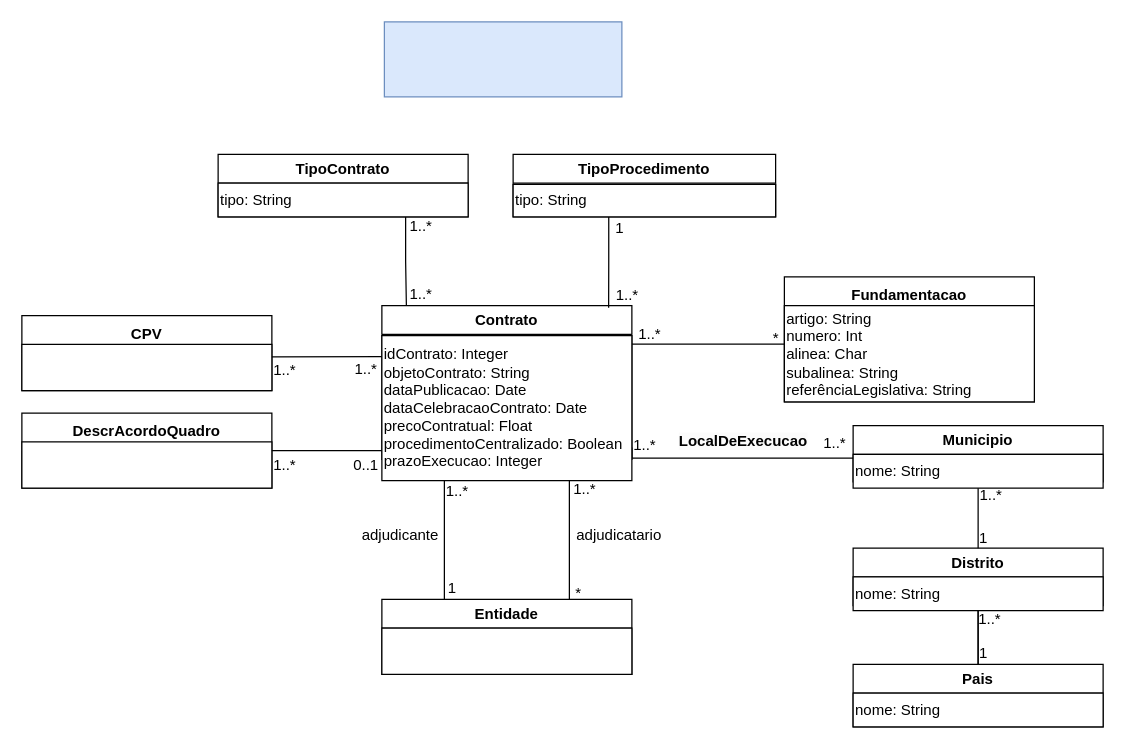
The diagram is 1125 pixels wide and 749 high, and some of its shapes have lost their labels. The shapes that lost their labels are listed below. From the top down, each one's centre as x and y in pixels, then its label:
At point (502, 59): "Diagrama UML Contratos públicos".
At point (146, 367): "codigo: String descricao: String".
At point (146, 464): "identificador: String [0..1] descricao: String".
At point (506, 650): "nif: Integer designacao: String".
